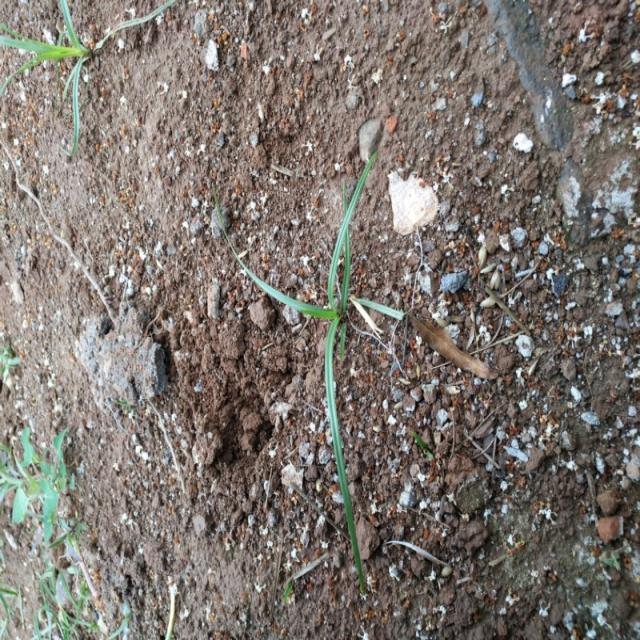sedge: (226, 164, 456, 575)
